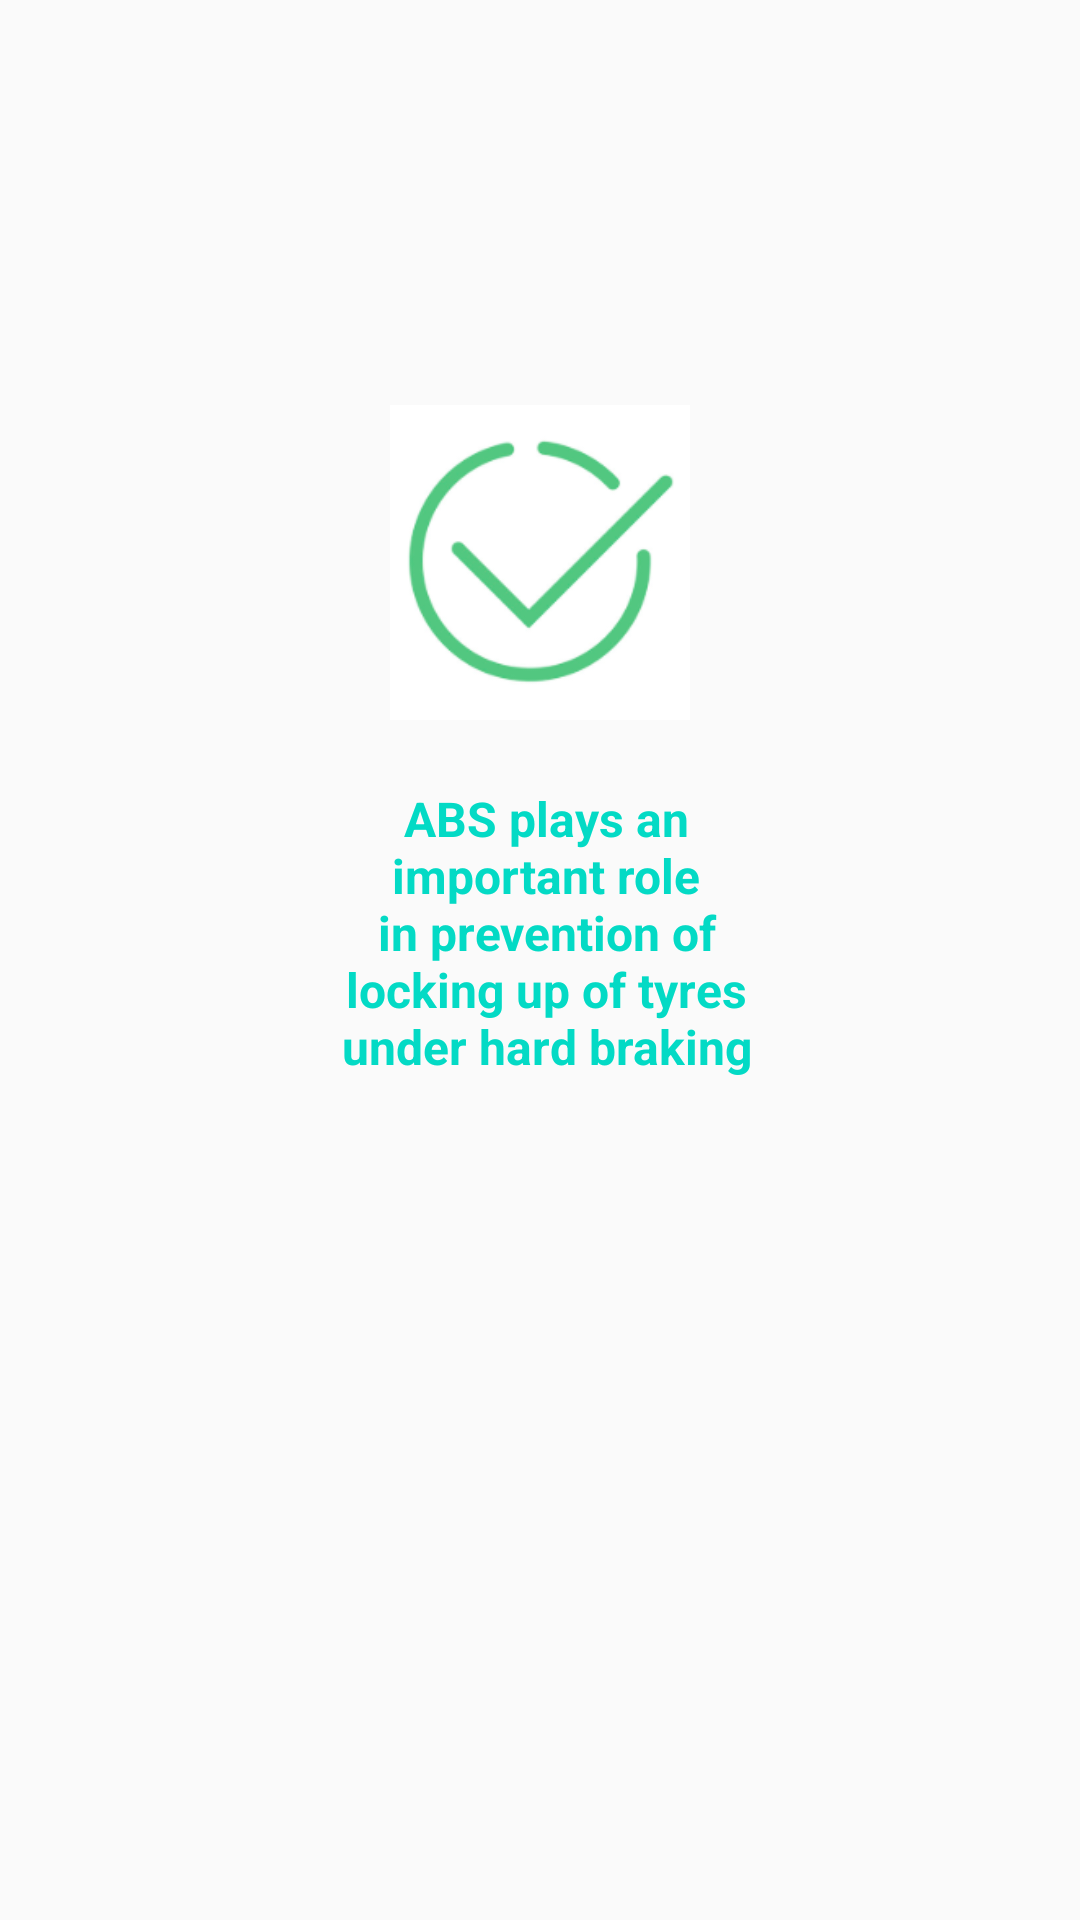

Named icons in this screenshot (1080w x 1920h) and their centers, [x,y]:
tick: [541,561]
